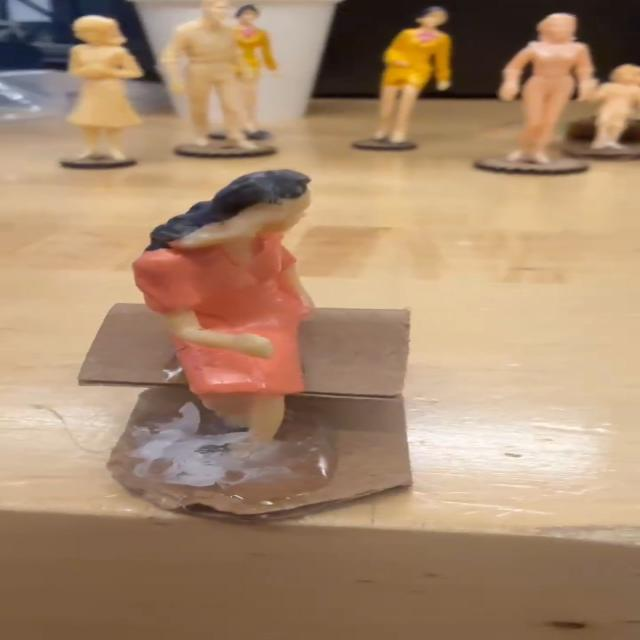Authorized: (7, 156, 545, 511)
